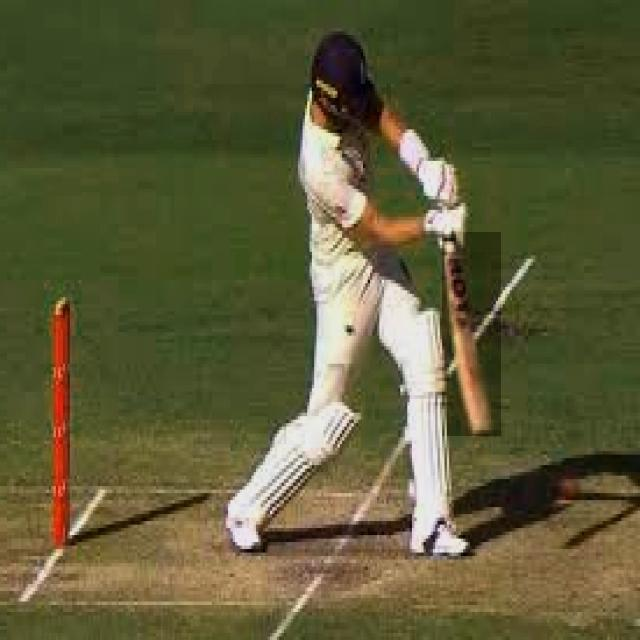bat: (446, 234, 508, 437)
toe: (468, 421, 496, 431)
